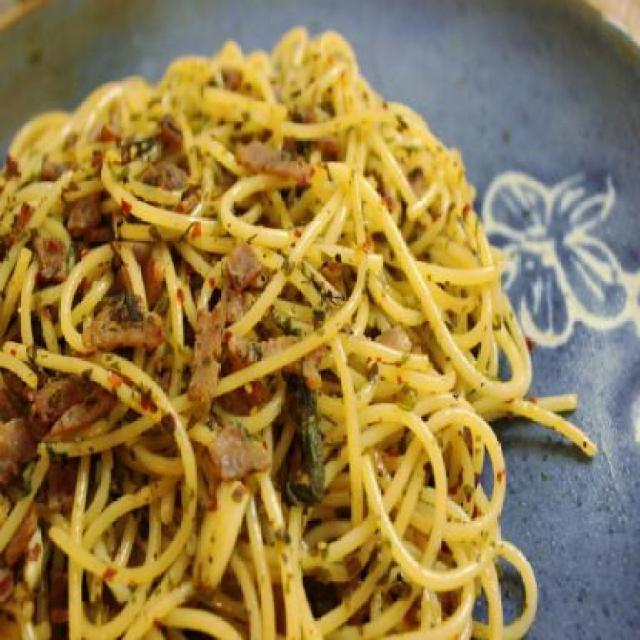Oil pasta: (6, 61, 522, 618)
